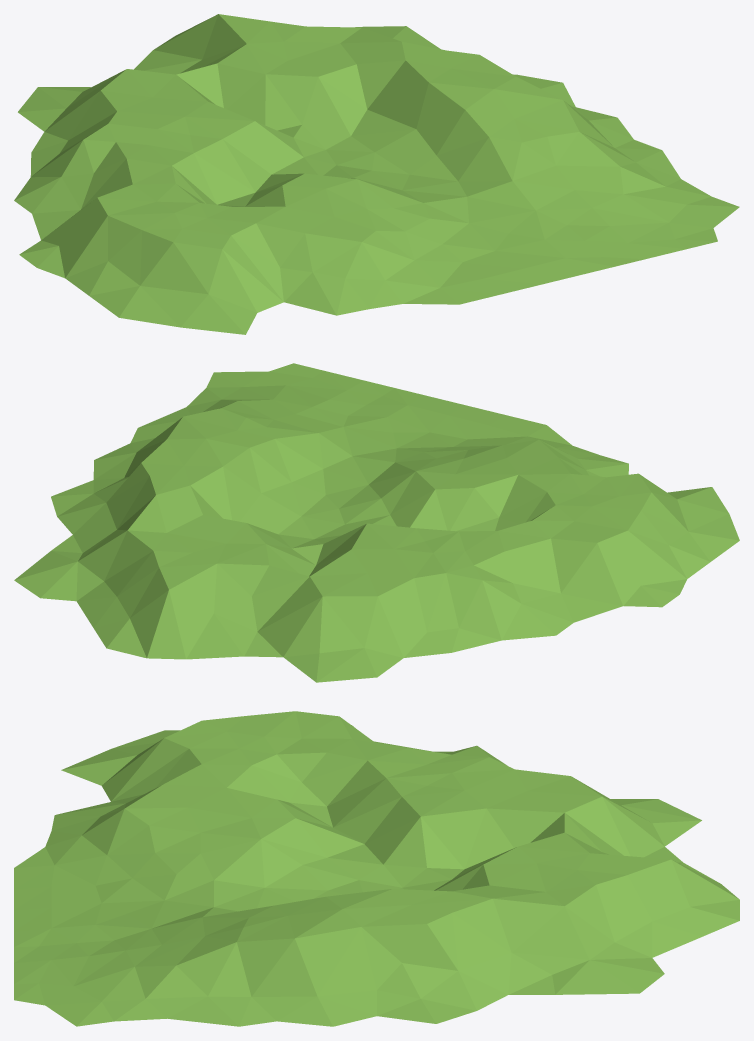
Rendered from MT_Mountain_M_c_02.fbx.
3 views of the same model, one above another, from view 1: azimuth 30°, elevation 25°; view 2: azimuth 150°, elevation 25°; view 3: azimuth 270°, elevation 25° (orthographic). The views are drawn at different scales.
Visible parts, largest first — view 1: MT_Mountain_M_c_02; view 2: MT_Mountain_M_c_02; view 3: MT_Mountain_M_c_02.
Boxes of the visible parts, bbox=[...] form: MT_Mountain_M_c_02: bbox=[14, 14, 739, 334]; MT_Mountain_M_c_02: bbox=[14, 363, 739, 682]; MT_Mountain_M_c_02: bbox=[14, 711, 739, 1026].
Size of the model in its own units: 4453 by 391 by 4531.
